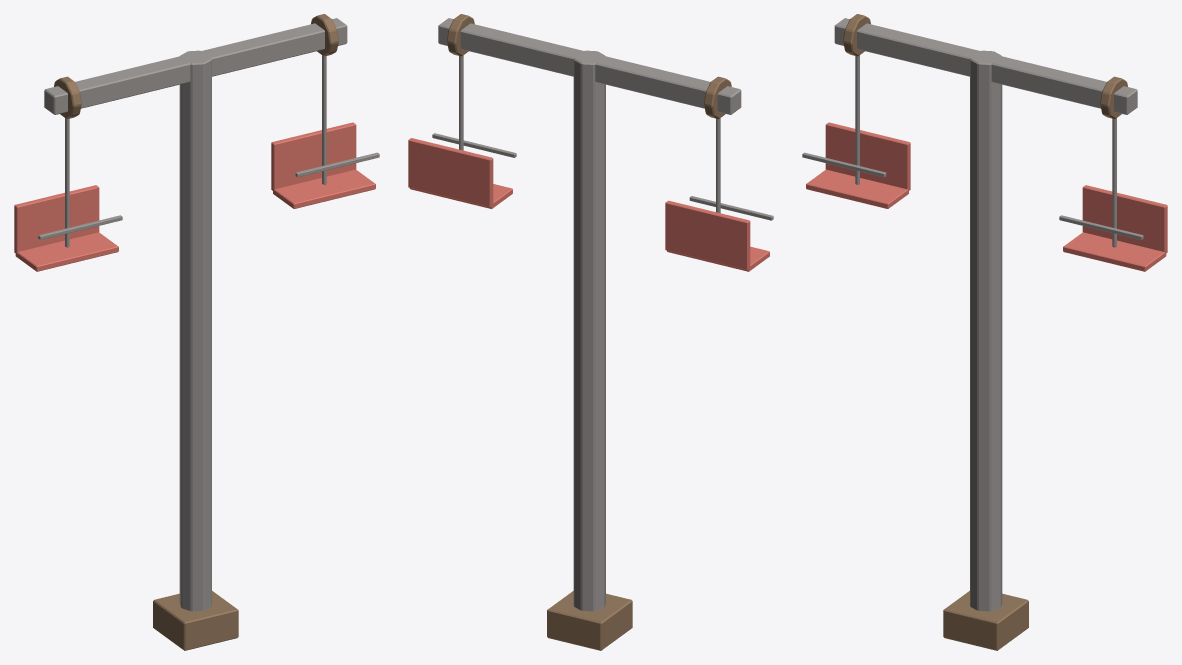
3 views of the same model, side by side, from view 1: azimuth 30°, elevation 25°; view 2: azimuth 150°, elevation 25°; view 3: azimuth 330°, elevation 25° (orthographic).
Parts seen in each view (by area): view 1: SkiLift; view 2: SkiLift; view 3: SkiLift.
Part boxes in pixels (x1=…): SkiLift: x1=14, y1=14, x2=379, y2=650; SkiLift: x1=408, y1=14, x2=773, y2=650; SkiLift: x1=802, y1=14, x2=1167, y2=650.
Size of the model in its own units: 3.7 by 6.09 by 0.6.
